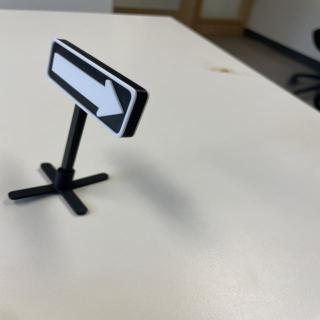sign_oneway_right: (48, 39, 150, 139)
